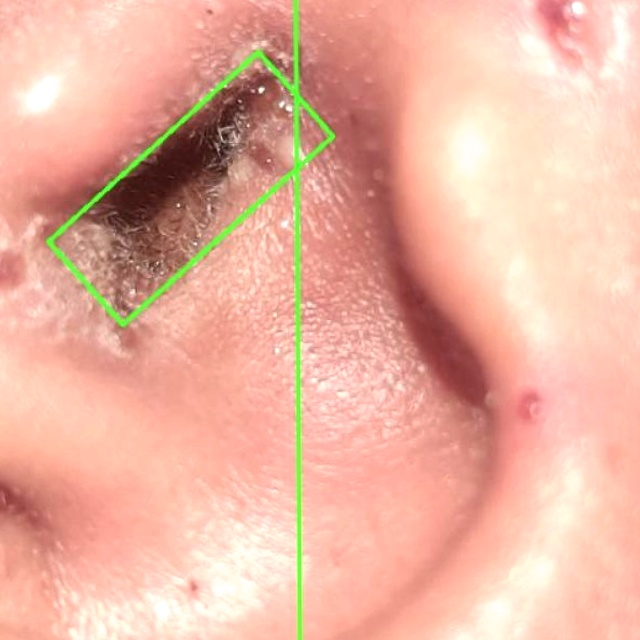Contact Dermatitis: (295, 0, 639, 639), (47, 52, 332, 324)
